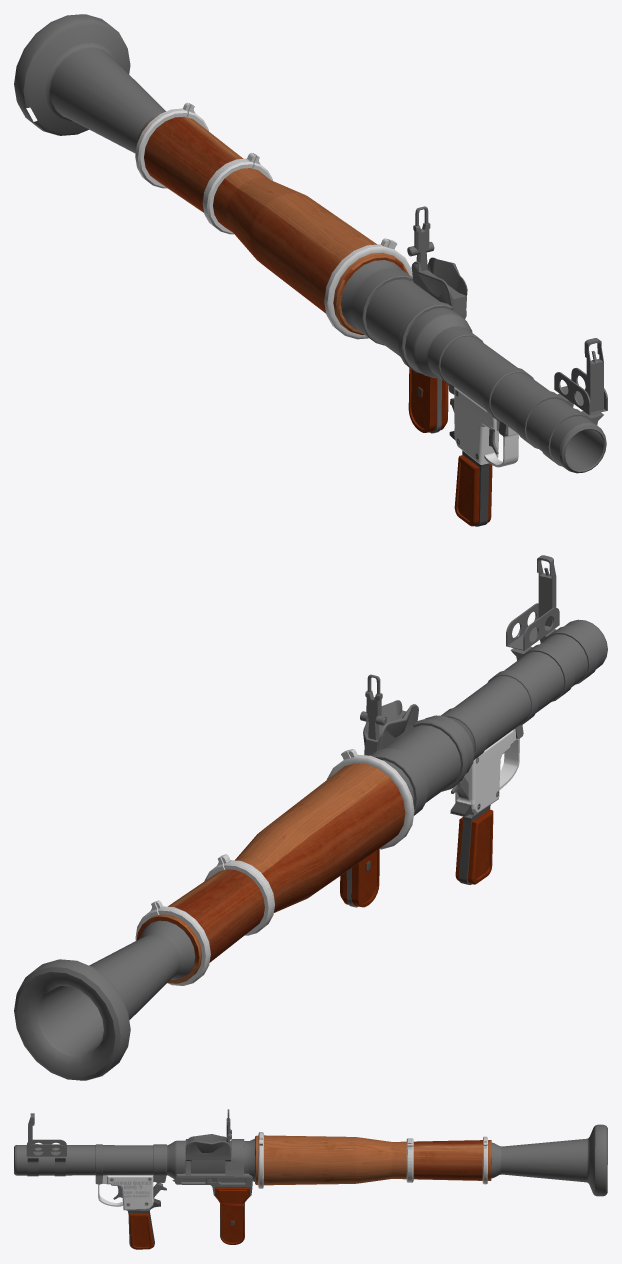
3 renders of one model, top to bottom at view 1: azimuth 30°, elevation 25°; view 2: azimuth 150°, elevation 25°; view 3: azimuth 270°, elevation 25°, orthographic. The views are drawn at different scales.
Parts seen in each view (by area): view 1: Body_black_metal, Body_wood, Body_bast, Body_with_metal, Body_plastek; view 2: Body_black_metal, Body_wood, Body_bast, Body_with_metal, Body_plastek; view 3: Body_black_metal, Body_wood, Body_plastek, Body_with_metal, Body_bast.
Boxes of the visible parts, x1=… form: Body_black_metal: x1=14, y1=14, x2=607, y2=473; Body_wood: x1=137, y1=115, x2=408, y2=334; Body_bast: x1=135, y1=102, x2=412, y2=339; Body_with_metal: x1=449, y1=387, x2=518, y2=526; Body_plastek: x1=408, y1=368, x2=492, y2=526; Body_black_metal: x1=14, y1=555, x2=607, y2=1080; Body_wood: x1=136, y1=763, x2=405, y2=983; Body_bast: x1=135, y1=749, x2=414, y2=985; Body_with_metal: x1=450, y1=728, x2=519, y2=884; Body_plastek: x1=340, y1=809, x2=493, y2=907; Body_black_metal: x1=14, y1=1109, x2=607, y2=1239; Body_wood: x1=255, y1=1135, x2=491, y2=1185; Body_plastek: x1=129, y1=1187, x2=250, y2=1249; Body_with_metal: x1=98, y1=1175, x2=160, y2=1247; Body_bast: x1=258, y1=1132, x2=487, y2=1188.
Size of the model in its own units: 0.1155 by 0.2544 by 0.95.
Materials: 5 (4 with a texture image).
